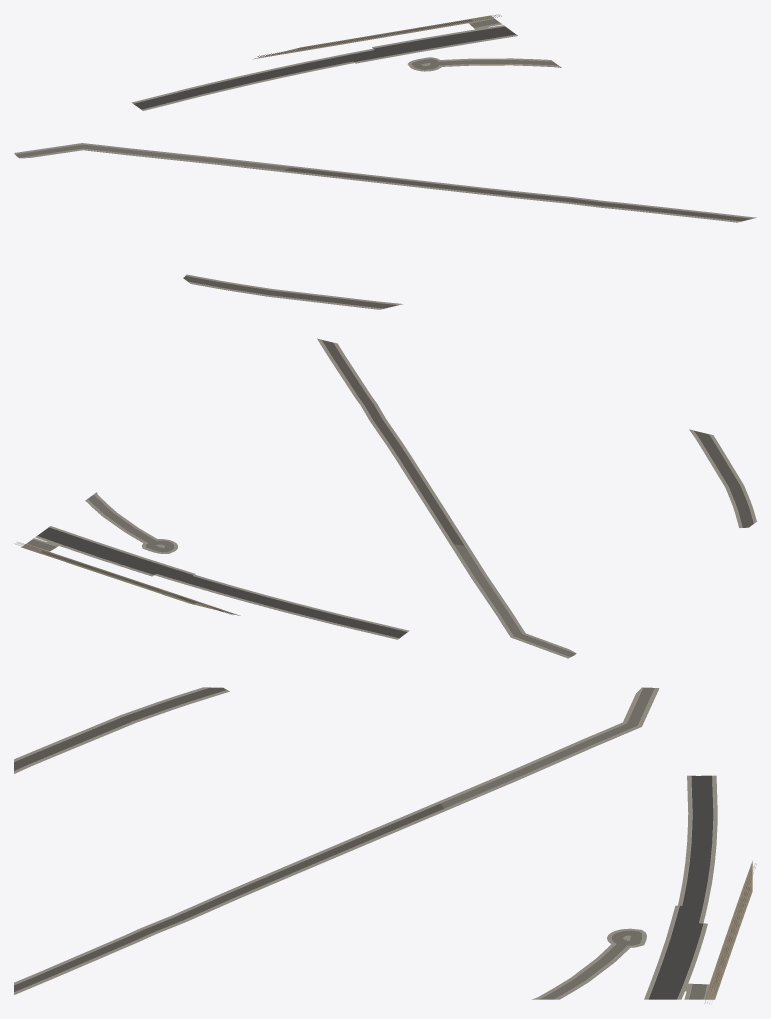
The model's file is Ulice_0_2.fbx.
3 renders of one model, top to bottom at view 1: azimuth 30°, elevation 25°; view 2: azimuth 150°, elevation 25°; view 3: azimuth 270°, elevation 25°, orthographic. The views are drawn at different scales.
Parts seen in each view (by area): view 1: Ulica_0_2, Chodnik_0_2, Tory_0_2; view 2: Ulica_0_2, Chodnik_0_2, Tory_0_2; view 3: Ulica_0_2, Chodnik_0_2, Tory_0_2.
Part boxes in pixels (x1,y1,x2,y2): Ulica_0_2: [15, 19, 752, 308]; Chodnik_0_2: [14, 18, 756, 309]; Tory_0_2: [253, 14, 501, 59]; Ulica_0_2: [26, 340, 753, 657]; Chodnik_0_2: [28, 338, 756, 658]; Tory_0_2: [14, 542, 240, 615]; Ulica_0_2: [14, 687, 713, 999]; Chodnik_0_2: [14, 687, 717, 999]; Tory_0_2: [704, 861, 756, 1003].
Size of the model in its own units: 508 by 0.5 by 503.
